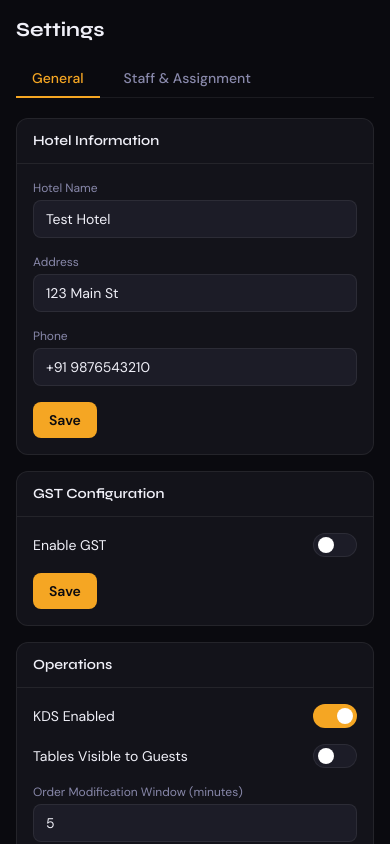
Test: PF15 - Admin Settings › GST toggle shows CGST/SGST fields when enabled
Click the switch with test id "gst-toggle" at (335, 545), box [313,533,357,557]
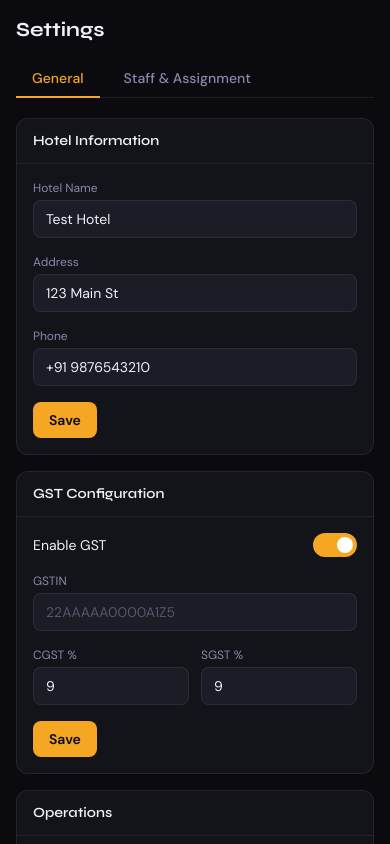
Expected: the number field with test id "cgst-input" is shown, [33,667,189,705]
Expected: the number field with test id "sgst-input" is shown, [201,667,357,705]
